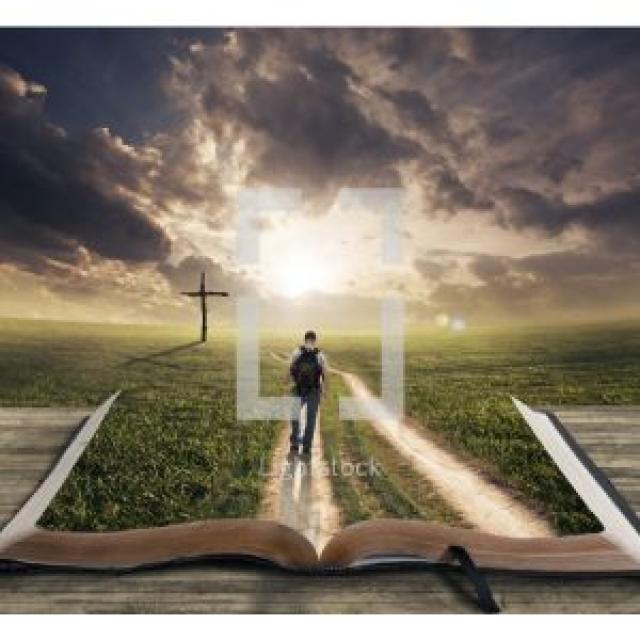nonfall: (266, 331, 338, 462)
